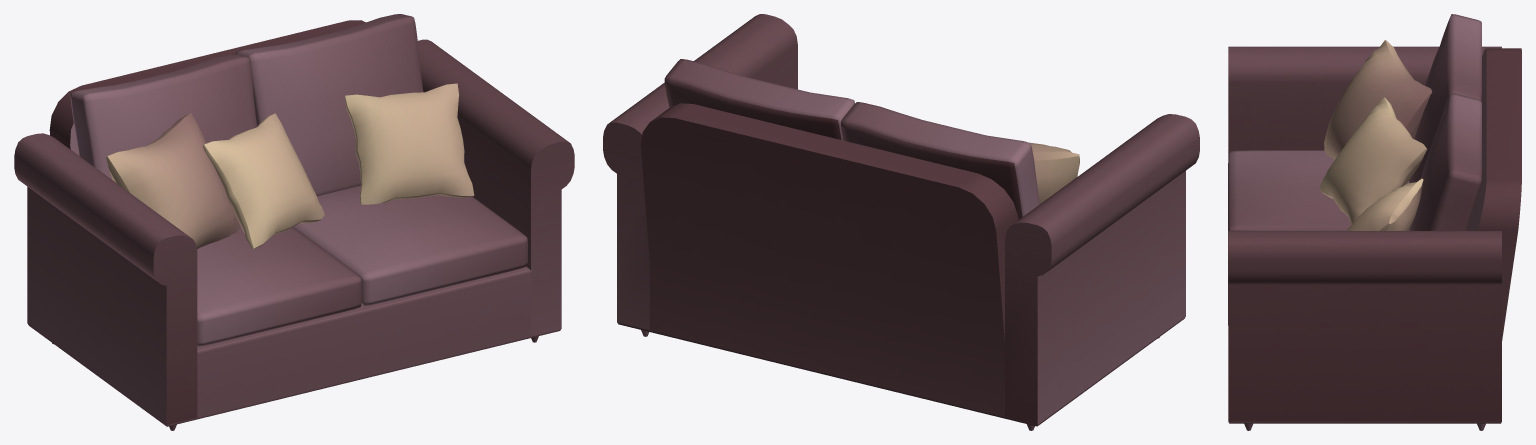
Rendered from SM_Sofa_Pillows2.fbx.
3 renders of one model, left to right at view 1: azimuth 30°, elevation 25°; view 2: azimuth 150°, elevation 25°; view 3: azimuth 270°, elevation 25°, orthographic. The views are drawn at different scales.
Parts seen in each view (by area): view 1: SM_Sofa, Pillow1, Pillow2, Pillow3; view 2: SM_Sofa, Pillow2; view 3: SM_Sofa, Pillow3, Pillow2, Pillow1.
Boxes of the visible parts, x1,y1,x2,y2 form: SM_Sofa: (14,14,574,430); Pillow1: (344,83,474,204); Pillow2: (106,113,240,249); Pillow3: (203,113,324,249); SM_Sofa: (603,14,1199,430); Pillow2: (1029,142,1079,203); SM_Sofa: (1228,14,1521,430); Pillow3: (1319,97,1427,224); Pillow2: (1324,40,1431,159); Pillow1: (1347,178,1423,230).
Bounding box in the file's own units: 166 × 95.81 × 102.
1 material, 1 textured.
